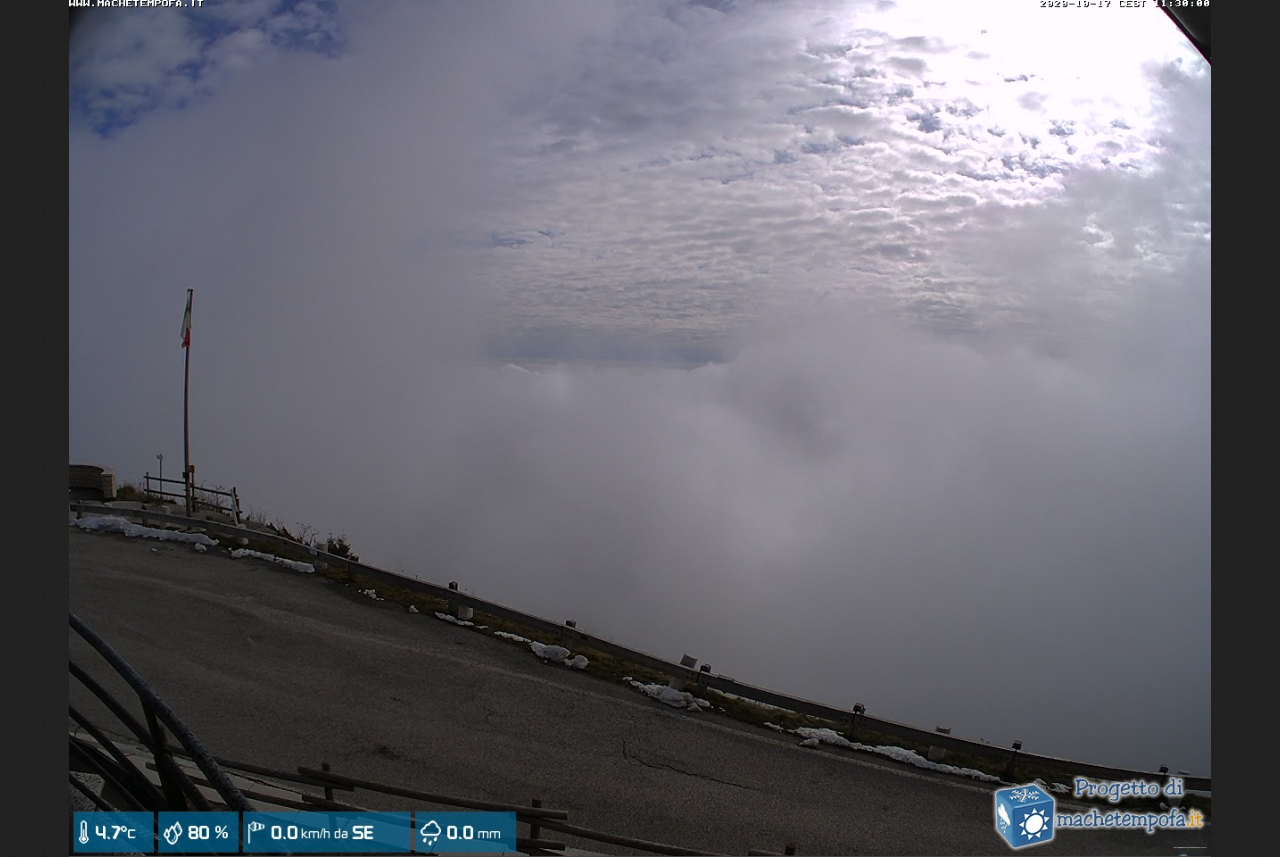no: (178, 287, 194, 352)
